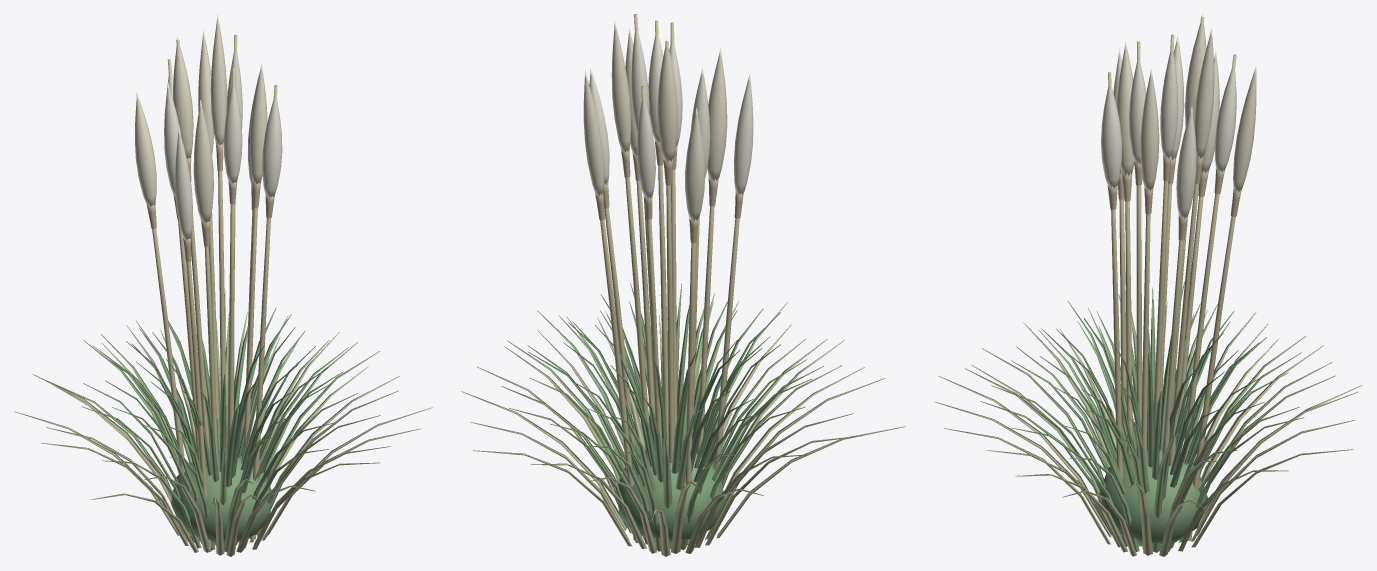
File: pampas_cortadera_3.glb
3 renders of one model, left to right at view 1: azimuth 30°, elevation 25°; view 2: azimuth 150°, elevation 25°; view 3: azimuth 270°, elevation 25°, orthographic. The views are drawn at different scales.
Visible parts, largest first — view 1: CortStalks, CortBladeDeep, CortBladeMid, CortPlumeGold, CortBladeDry, CortPlumeSilk, CortSheaths; view 2: CortStalks, CortBladeDeep, CortBladeMid, CortBladeDry, CortPlumeGold, CortPlumeSilk, CortSheaths; view 3: CortStalks, CortBladeDeep, CortBladeMid, CortBladeDry, CortPlumeSilk, CortPlumeGold, CortSheaths.
Part boxes in pixels (x1,y1,x2,y2): CortStalks: (152,35,277,548); CortBladeDeep: (103,291,343,545); CortBladeMid: (47,311,398,552); CortPlumeGold: (135,14,267,222); CortBladeDry: (14,318,432,556); CortPlumeSilk: (164,52,282,239); CortSheaths: (147,142,274,262); CortStalks: (600,14,739,543); CortBladeDeep: (528,283,781,542); CortBladeMid: (501,293,853,551); CortBladeDry: (461,301,905,556); CortPlumeGold: (583,21,727,221); CortPlumeSilk: (589,31,753,198); CortSheaths: (595,140,743,243); CortStalks: (1108,17,1236,545); CortBladeDeep: (1040,281,1266,546); CortBladeMid: (965,302,1335,552); CortBladeDry: (934,300,1362,556); CortPlumeSilk: (1101,35,1236,218); CortPlumeGold: (1116,14,1256,192); CortSheaths: (1107,155,1241,240).
Size of the model in its own units: 1.55 by 2.1 by 1.56.
